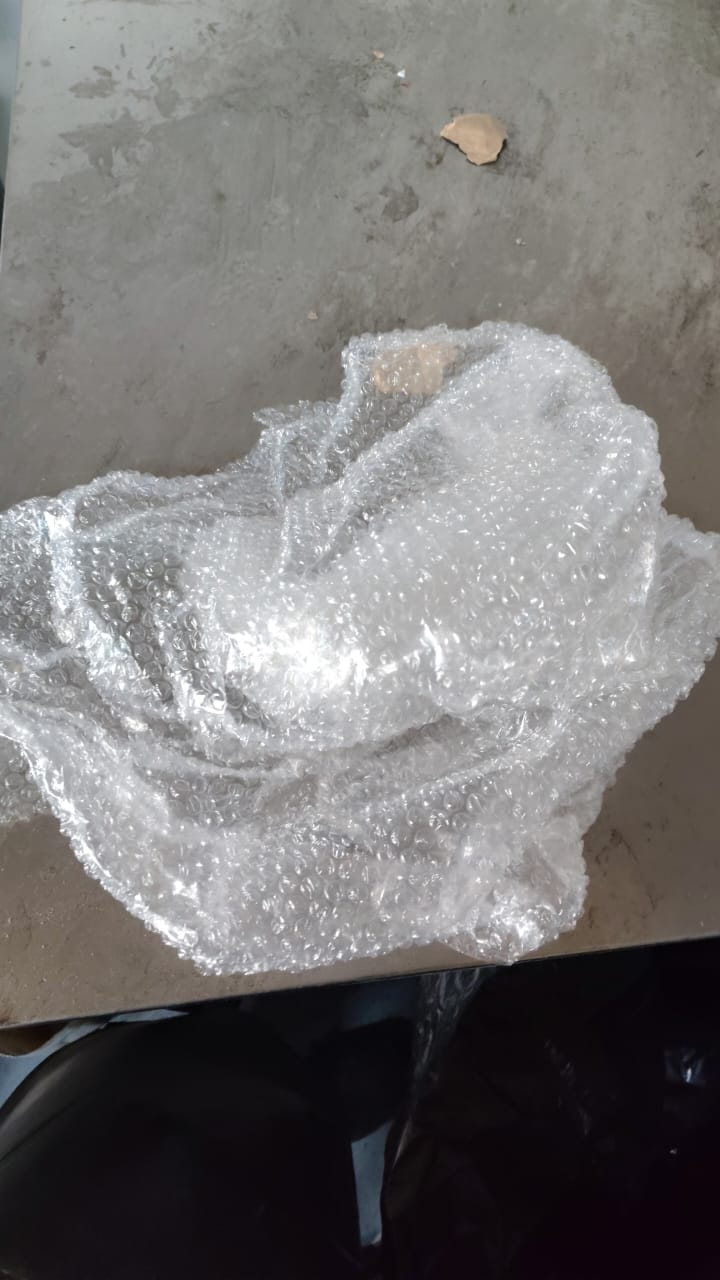Plastico: (0, 323, 720, 978)
